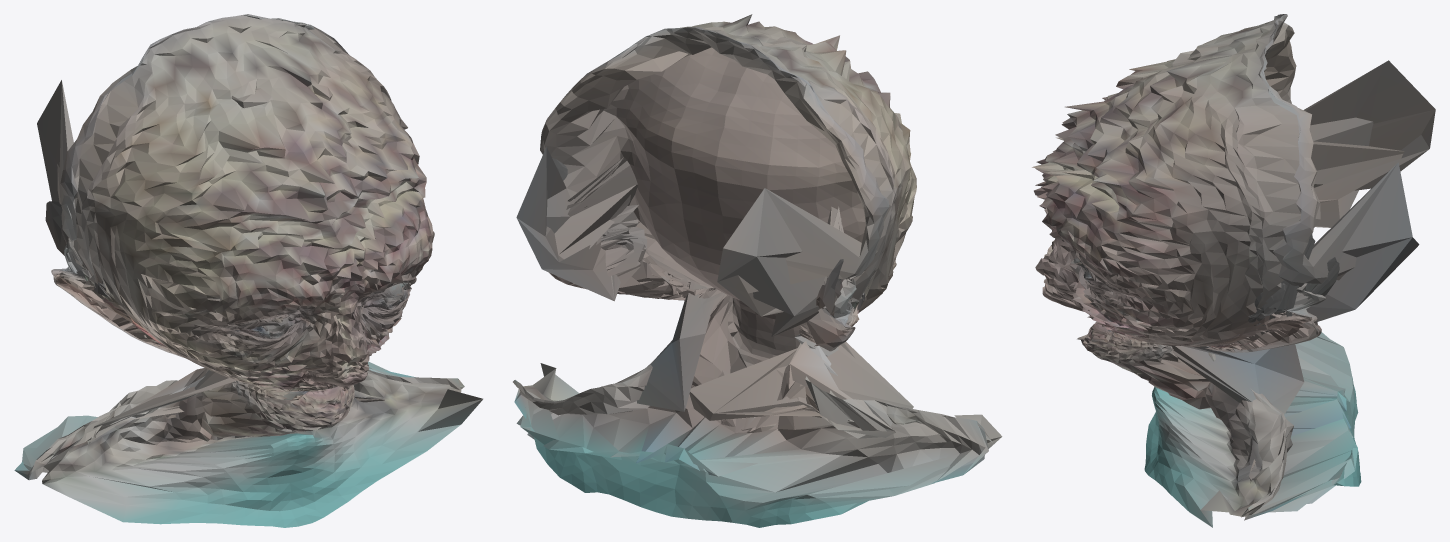
The model's file is chibi_textured_mesh.obj.
The picture shows the model from 3 angles, left to right: view 1: azimuth 30°, elevation 25°; view 2: azimuth 150°, elevation 25°; view 3: azimuth 270°, elevation 25°; orthographic projection. The views are drawn at different scales.
Size of the model in its own units: 0.327 by 0.3176 by 0.2709.
